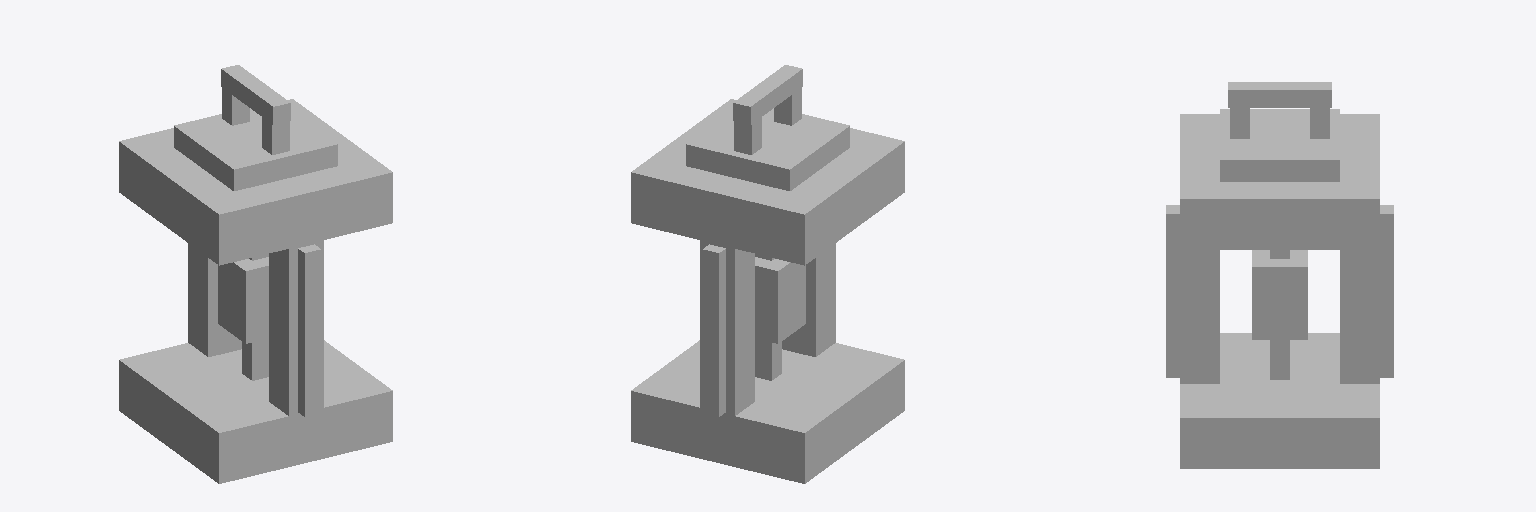
Rendered from fulloilcy1.obj.
The picture shows the model from 3 angles: view 1: azimuth 30°, elevation 25°; view 2: azimuth 150°, elevation 25°; view 3: azimuth 270°, elevation 25°; orthographic projection.
Size of the model in its own units: 1.25 by 2.34 by 1.42.